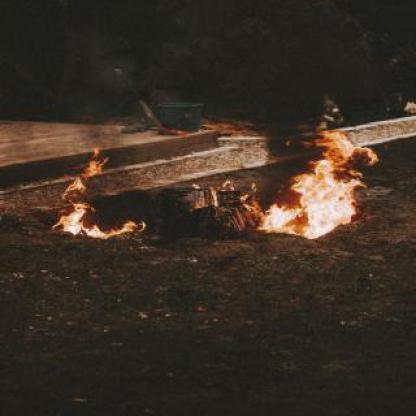fire: (254, 127, 376, 240), (39, 142, 151, 244)
